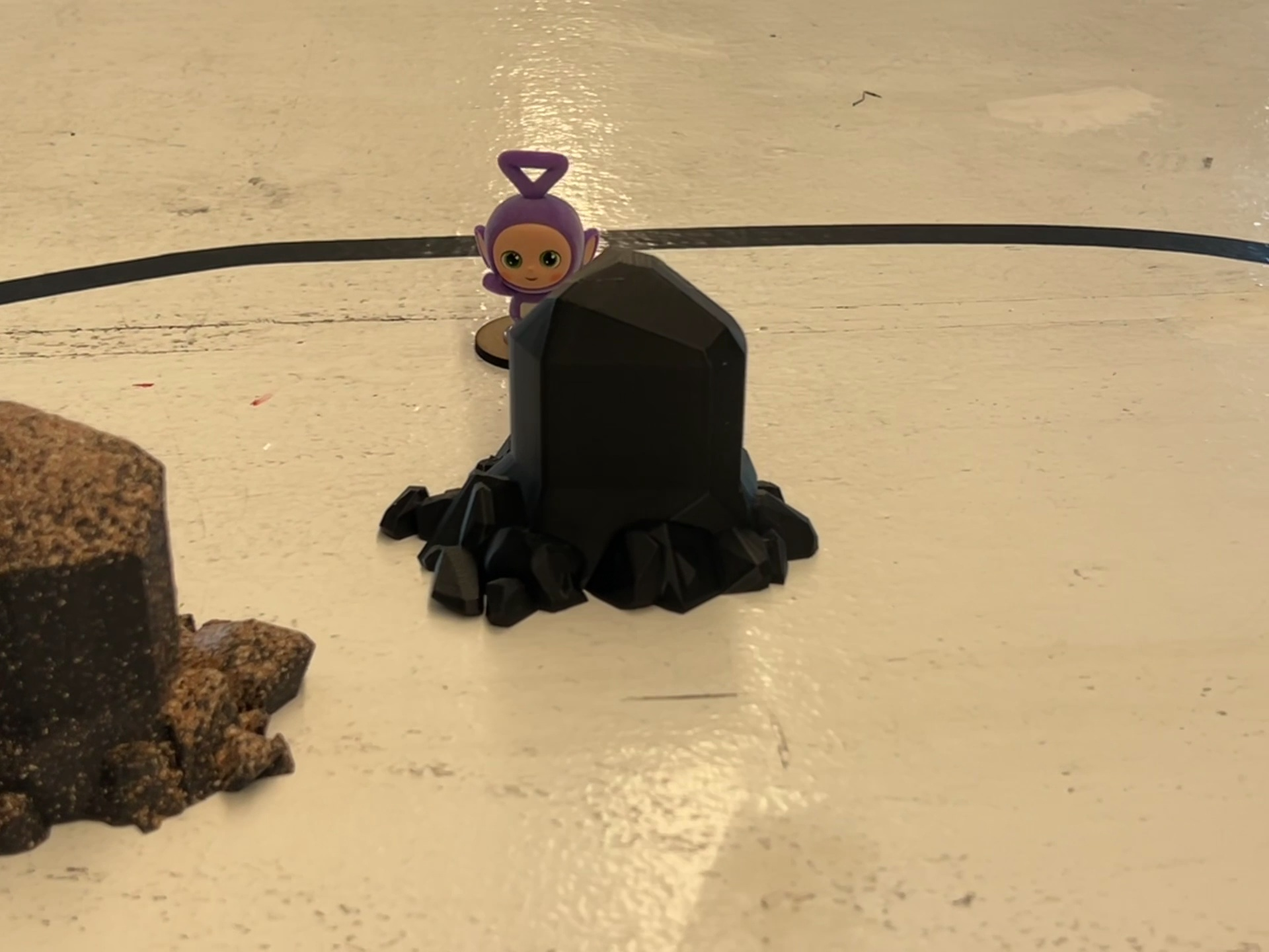teletubby: (475, 150, 598, 321)
